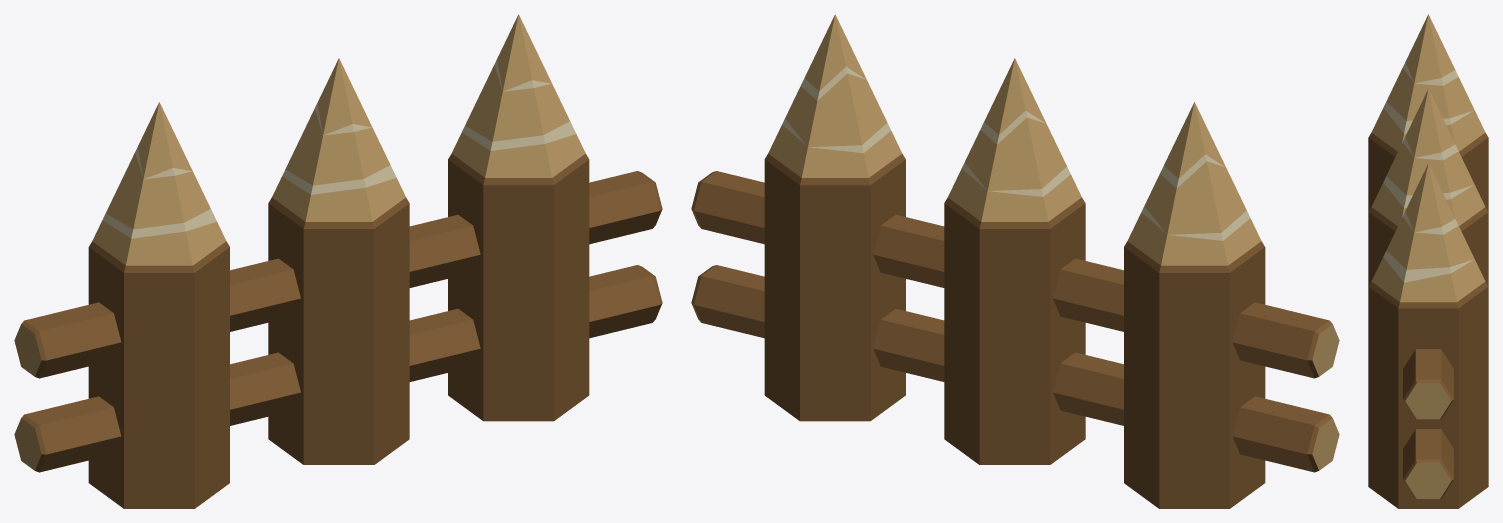
The model's file is fence_short.fbx.
The picture shows the model from 3 angles, left to right: view 1: azimuth 30°, elevation 25°; view 2: azimuth 150°, elevation 25°; view 3: azimuth 270°, elevation 25°; orthographic projection. The views are drawn at different scales.
Visible parts, largest first — view 1: fence_short; view 2: fence_short; view 3: fence_short.
Boxes of the visible parts, x1,y1,x2,y2 form: fence_short: (14, 14, 662, 508); fence_short: (691, 14, 1339, 508); fence_short: (1368, 14, 1488, 508).
Bounding box in the file's own units: 173 × 101 × 34.06.
